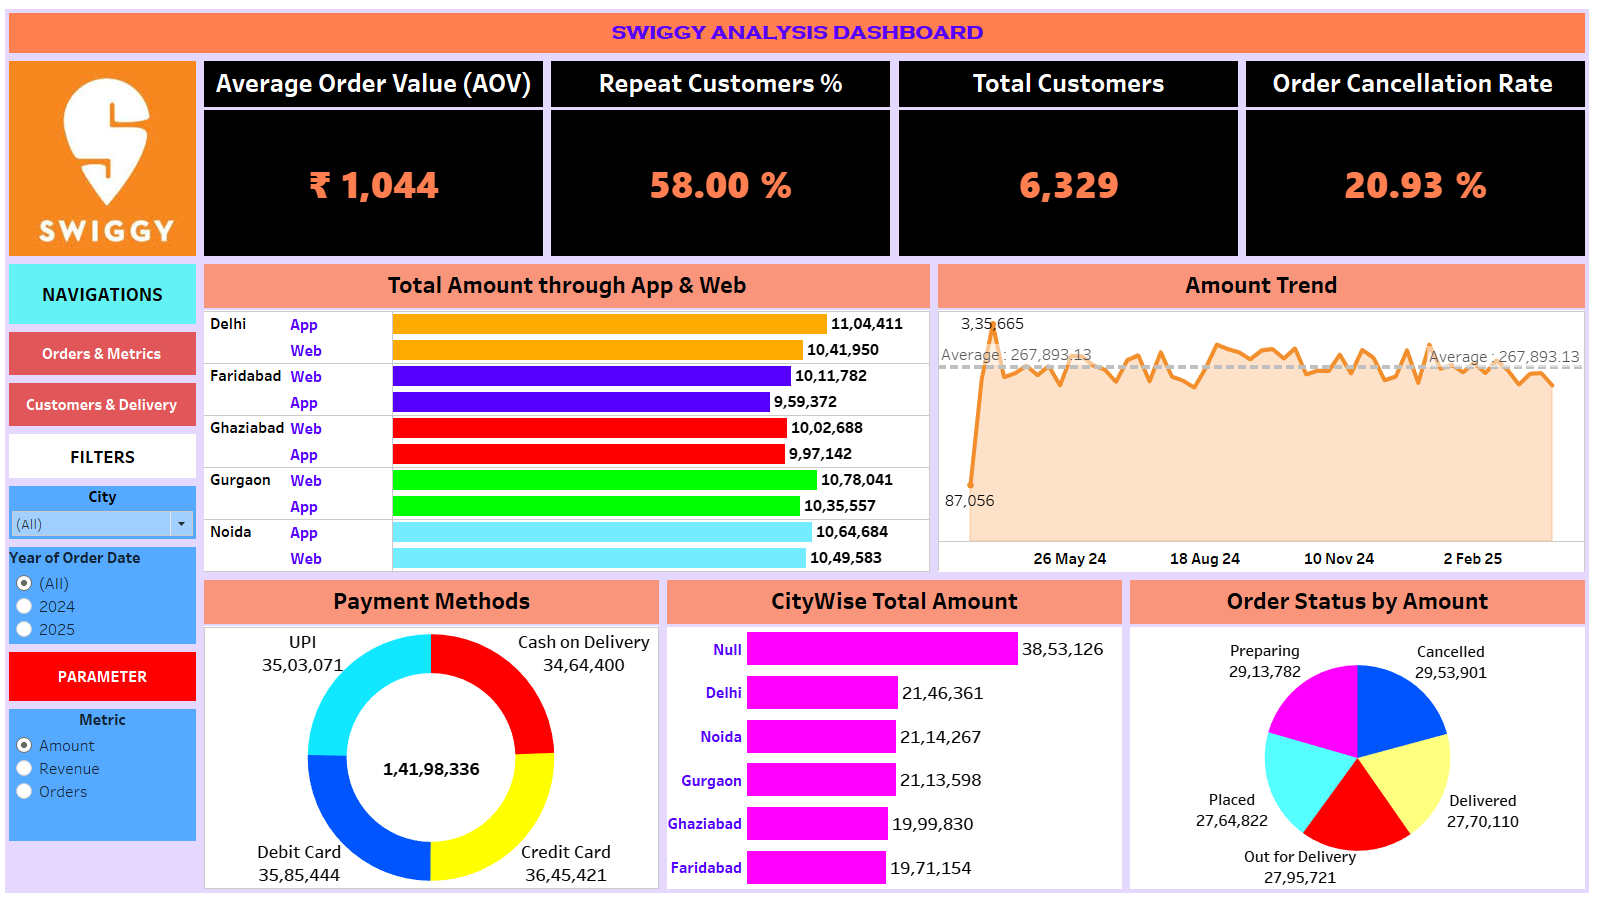

The dashboard page shown, as its layout file describes it:
{"tool":"tableau","page":{"name":"Orders & Metrics","canvas":[1600,900],"ordinal":1},"visuals":[{"type":"text","box":[8,8,1584,48]},{"type":"image","param":"Image/images.jpg","box":[8,56,195,203]},{"type":"worksheet","title":"KPI-3","mark":"Automatic","box":[203,56,347.2,203]},{"type":"worksheet","title":"KPI-5","mark":"Automatic","box":[550.3,56,347.2,203]},{"type":"worksheet","title":"KPI-4","mark":"Automatic","box":[897.5,56,347.2,203]},{"type":"worksheet","title":"KPI-8","mark":"Automatic","box":[1244.8,56,347.2,203]},{"type":"text","box":[8,259,195,68]},{"type":"worksheet","title":"App,Web","mark":"Automatic","rows":["City","Order Source"],"cols":["Calculation_328199889319661568"],"box":[203,259,734,316.5]},{"type":"worksheet","title":"WEEKLY ORDERS TREND","mark":"Area","rows":["Calculation_328199889319661568","Calculation_328199889319661568"],"cols":["Order Date"],"box":[937,259,655,316.5]},{"type":"dashboard-object","box":[8,327,195,51]},{"type":"dashboard-object","box":[8,378,195,51]},{"type":"text","box":[8,429,195,52]},{"type":"filter","title":"App,Web","param":"[federated.0m7adrq1ou8d6t1earo5l1i4qmw8].[none:City:nk]","box":[8,481,195,61]},{"type":"filter","title":"WEEKLY ORDERS TREND","param":"[federated.0m7adrq1ou8d6t1earo5l1i4qmw8].[yr:Order Date:ok]","box":[8,542,195,105]},{"type":"worksheet","title":"Payment_Method","mark":"Pie","rows":["Calculation_328199889330999298","Calculation_328199889331027972"],"box":[203,575.5,463,316.5]},{"type":"worksheet","title":"Citywise","mark":"Automatic","rows":["City"],"cols":["Calculation_328199889319661568"],"box":[666,575.5,463,316.5]},{"type":"worksheet","title":"Order_Status","mark":"Pie","box":[1129,575.5,463,316.5]},{"type":"text","box":[8,647,195,57]},{"type":"parameter","param":"[Parameters].[Parameter 1]","box":[8,704,195,140]}]}

Visuals, with their boxes in screenshot pixels (x1, y1, x2, y2), scaled from the page's 1600x900 canvas onto the 1601x902 screenshot:
text: [left=8, top=8, right=1593, bottom=56]
image: [left=8, top=56, right=203, bottom=260]
"KPI-3" worksheet: [left=203, top=56, right=551, bottom=260]
"KPI-5" worksheet: [left=551, top=56, right=898, bottom=260]
"KPI-4" worksheet: [left=898, top=56, right=1245, bottom=260]
"KPI-8" worksheet: [left=1246, top=56, right=1593, bottom=260]
text: [left=8, top=260, right=203, bottom=328]
"App,Web" worksheet: [left=203, top=260, right=938, bottom=577]
"WEEKLY ORDERS TREND" worksheet (Area marks): [left=938, top=260, right=1593, bottom=577]
dashboard-object: [left=8, top=328, right=203, bottom=379]
dashboard-object: [left=8, top=379, right=203, bottom=430]
text: [left=8, top=430, right=203, bottom=482]
"App,Web" filter: [left=8, top=482, right=203, bottom=543]
"WEEKLY ORDERS TREND" filter: [left=8, top=543, right=203, bottom=648]
"Payment_Method" worksheet (Pie marks): [left=203, top=577, right=666, bottom=894]
"Citywise" worksheet: [left=666, top=577, right=1130, bottom=894]
"Order_Status" worksheet (Pie marks): [left=1130, top=577, right=1593, bottom=894]
text: [left=8, top=648, right=203, bottom=706]
parameter: [left=8, top=706, right=203, bottom=846]
